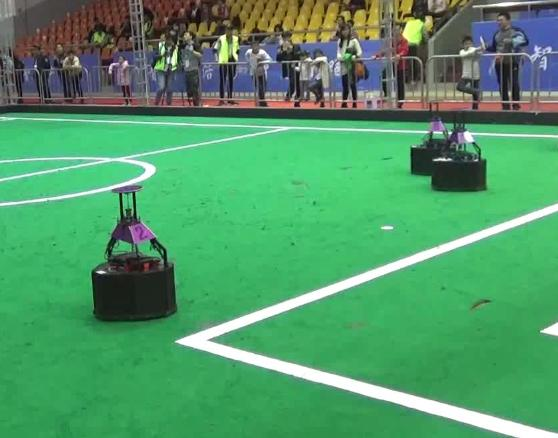robot: (88, 182, 179, 323), (431, 104, 495, 195)
